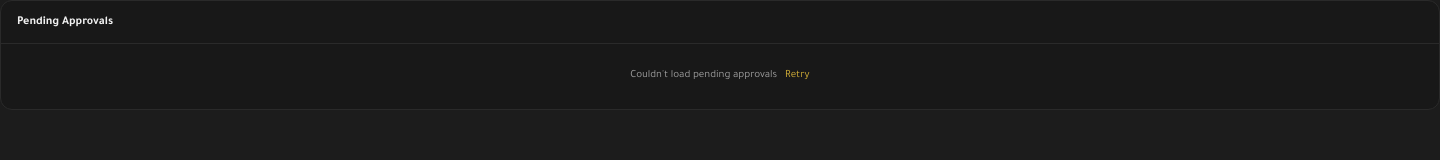
Test: PendingApprovalsPanel › shows a load error with a retry instead of "Nothing pending" when the request fails
This screenshot has width=1440, height=160.
Expected: the text "Couldn't load pending approvals" is shown, [630,70,777,81]
Expected: the text "Nothing pending" is not shown
Click the button "Retry" at x=797, y=76, box [785,68,810,84]
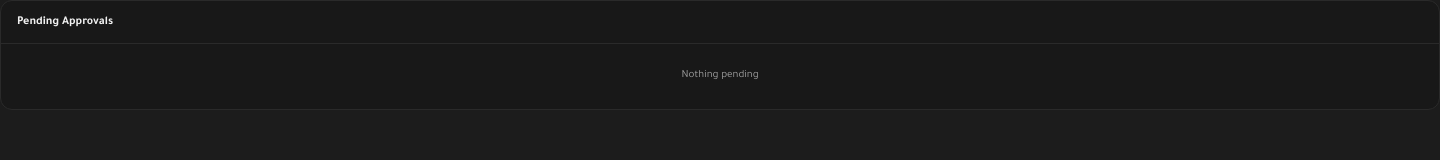
Now the text "Nothing pending" is shown, box [681,70,759,81]
